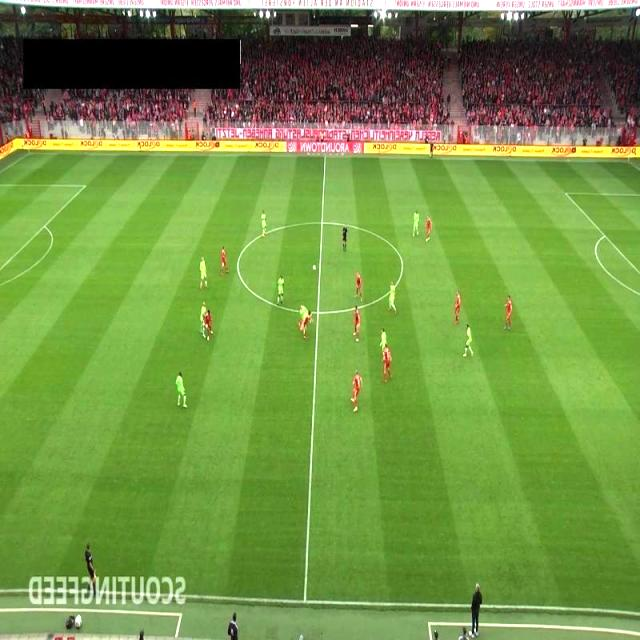bigarea_top_inner: (560, 188, 571, 200), (80, 180, 91, 192)
corner: (24, 148, 35, 160), (624, 158, 633, 166)
halfcircle_bottom: (313, 306, 324, 319)
halfcircle_top: (316, 216, 328, 228)
midline_bottom_intersection: (298, 590, 312, 612)
midline_top_intersection: (320, 150, 330, 160)
top_arc_area_intersection: (40, 222, 50, 232), (600, 232, 610, 241)
